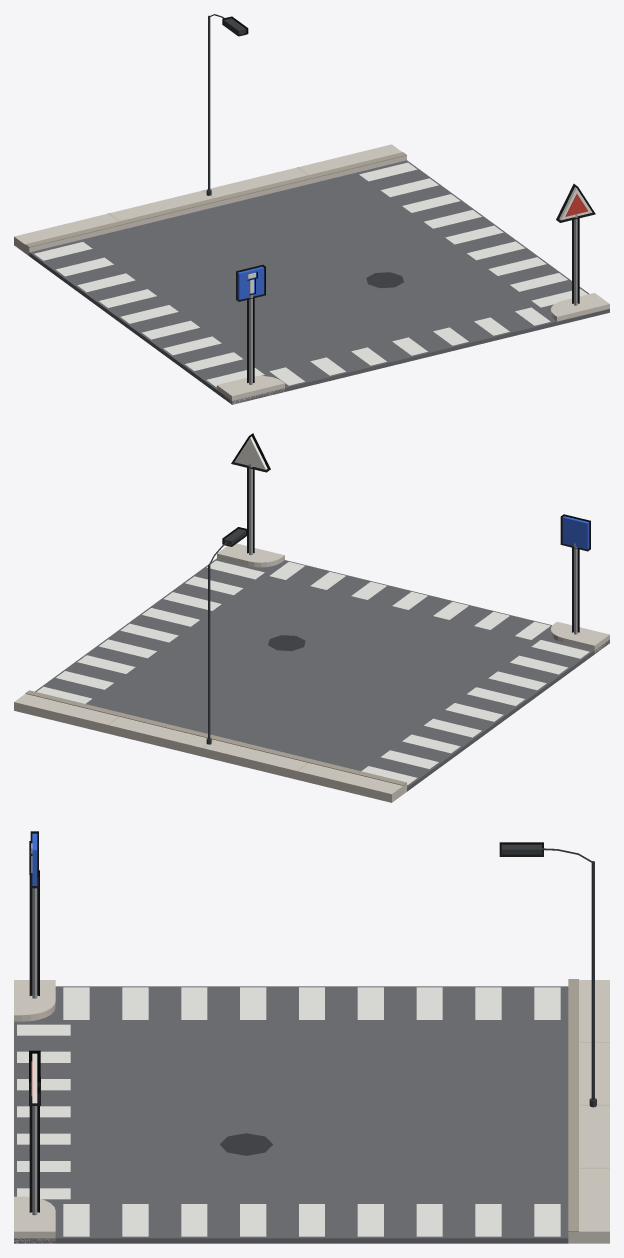
File: Yol_t_cs.fbx
3 views of the same model, one above another, from view 1: azimuth 30°, elevation 25°; view 2: azimuth 150°, elevation 25°; view 3: azimuth 270°, elevation 25° (orthographic). The views are drawn at different scales.
Visible parts, largest first — view 1: Yol_t_cs; view 2: Yol_t_cs; view 3: Yol_t_cs.
Part boxes in pixels (x1,y1,x2,y2): Yol_t_cs: (14, 14, 609, 404); Yol_t_cs: (14, 433, 609, 802); Yol_t_cs: (14, 831, 609, 1243).
Bounding box in the file's own units: 10 × 5.04 × 10.
